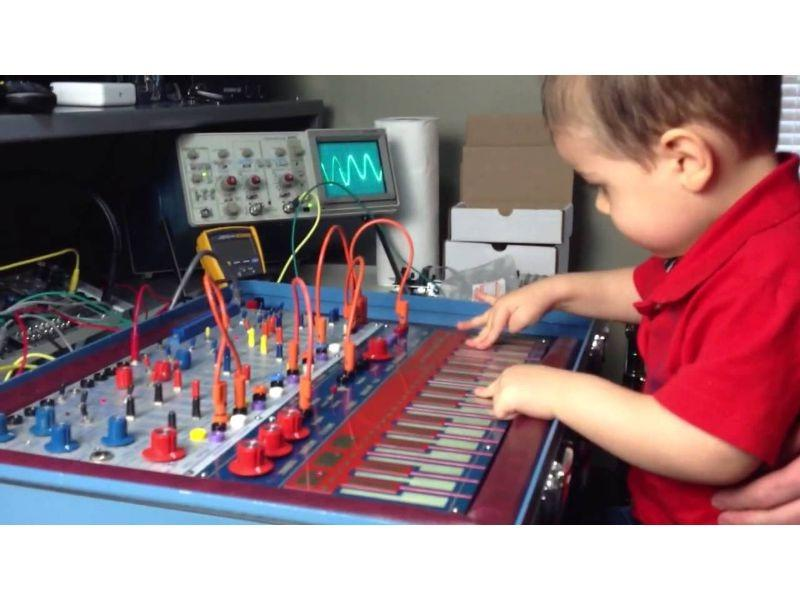synthesizer: (39, 267, 510, 513)
